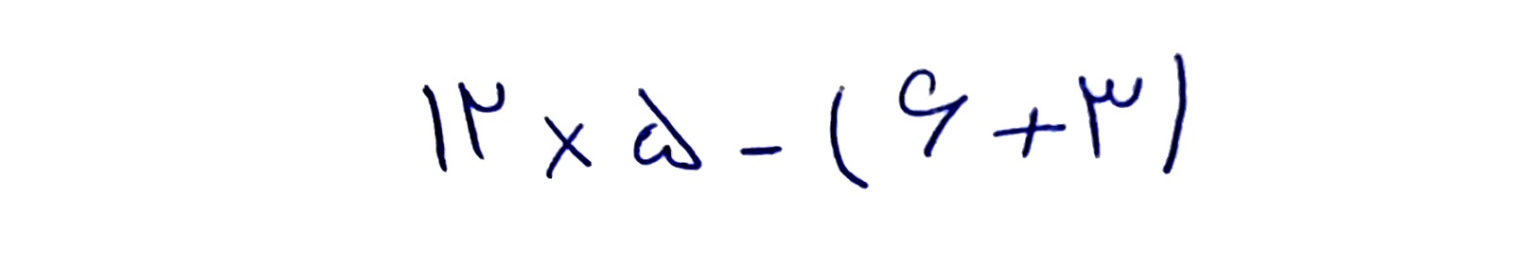character: (899, 67, 970, 158), (631, 87, 705, 174), (1079, 72, 1144, 163), (829, 82, 871, 187), (993, 105, 1069, 156), (457, 82, 506, 159), (1161, 51, 1189, 174), (543, 113, 595, 179), (421, 82, 451, 174), (740, 145, 784, 156)
